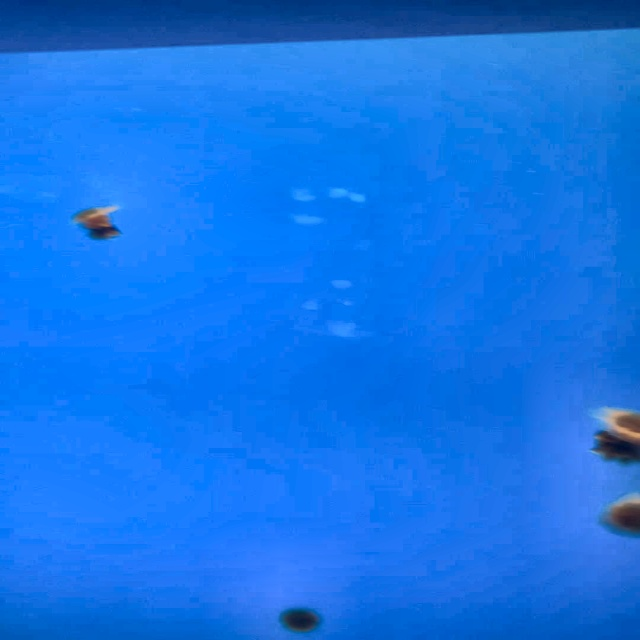jellyfish: (591, 405, 639, 457), (66, 205, 125, 240), (601, 490, 639, 536), (278, 607, 321, 634)
